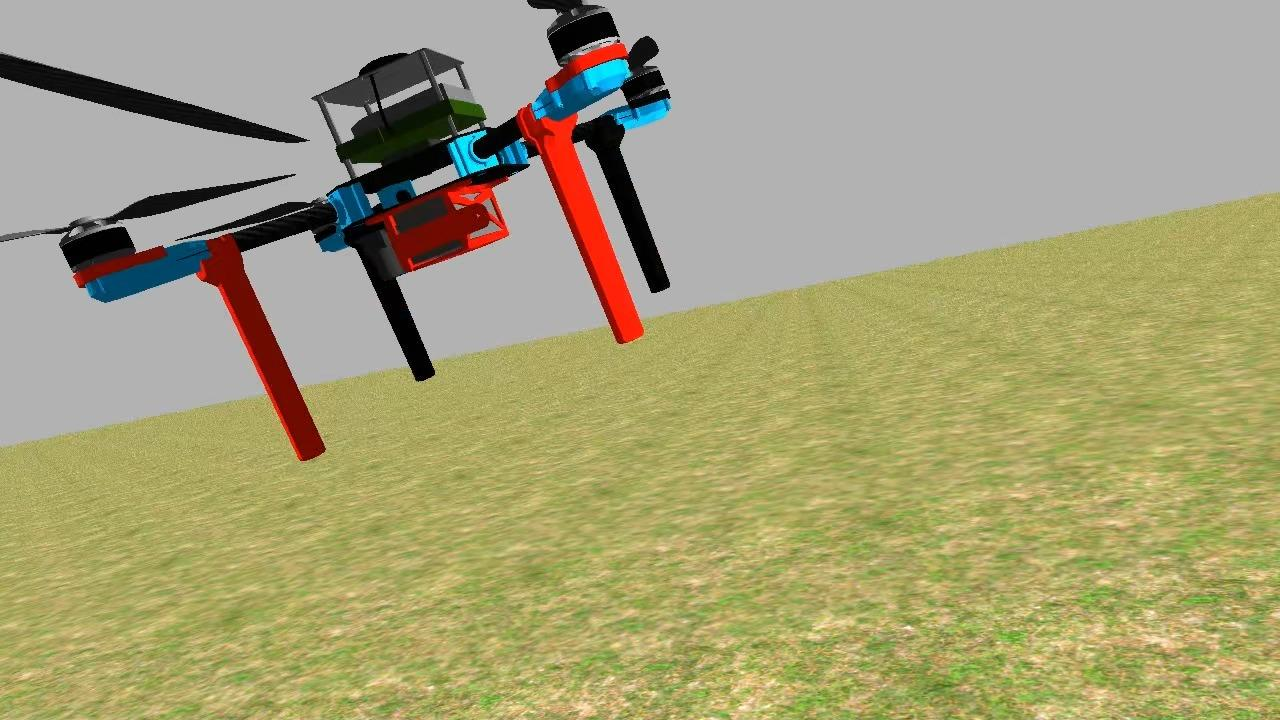UAV: (0, 0, 695, 470)
